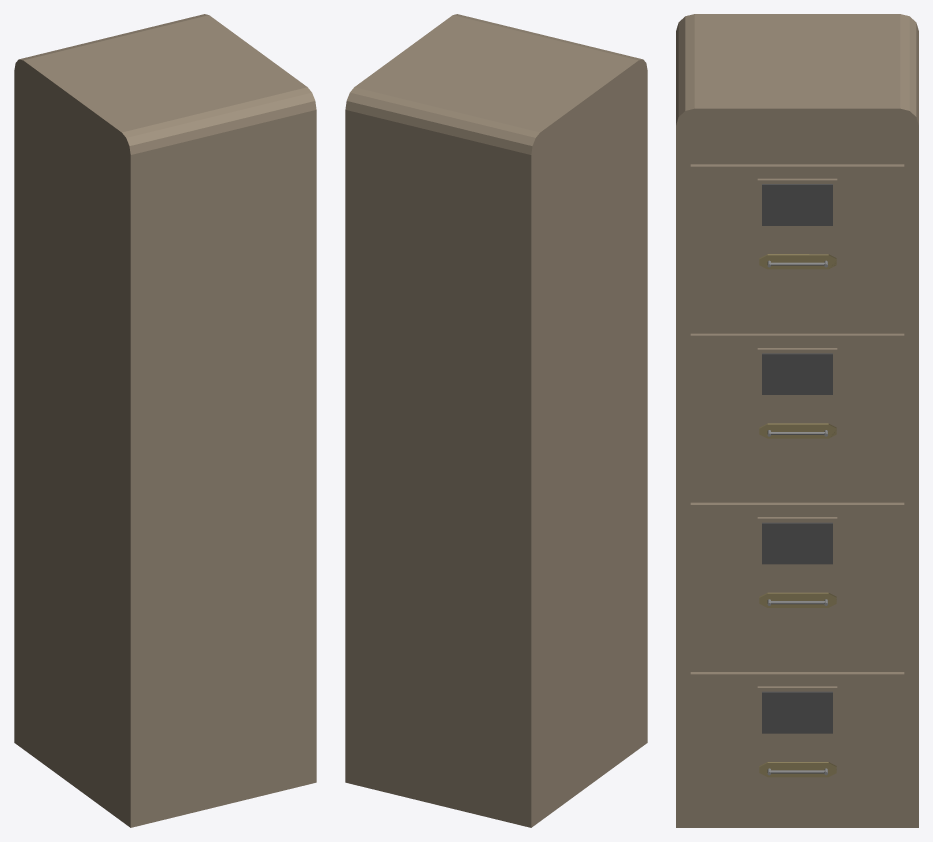
The model's file is Dolap2.fbx.
3 renders of one model, left to right at view 1: azimuth 30°, elevation 25°; view 2: azimuth 150°, elevation 25°; view 3: azimuth 270°, elevation 25°, orthographic. The views are drawn at different scales.
Visible parts, largest first — view 1: Cube; view 2: Cube; view 3: Cube.
Part boxes in pixels (<box>): Cube: <box>14,14,316,827</box>; Cube: <box>345,14,647,827</box>; Cube: <box>676,14,918,827</box>.
Size of the model in its own units: 2.58 by 8.5 by 2.6.
